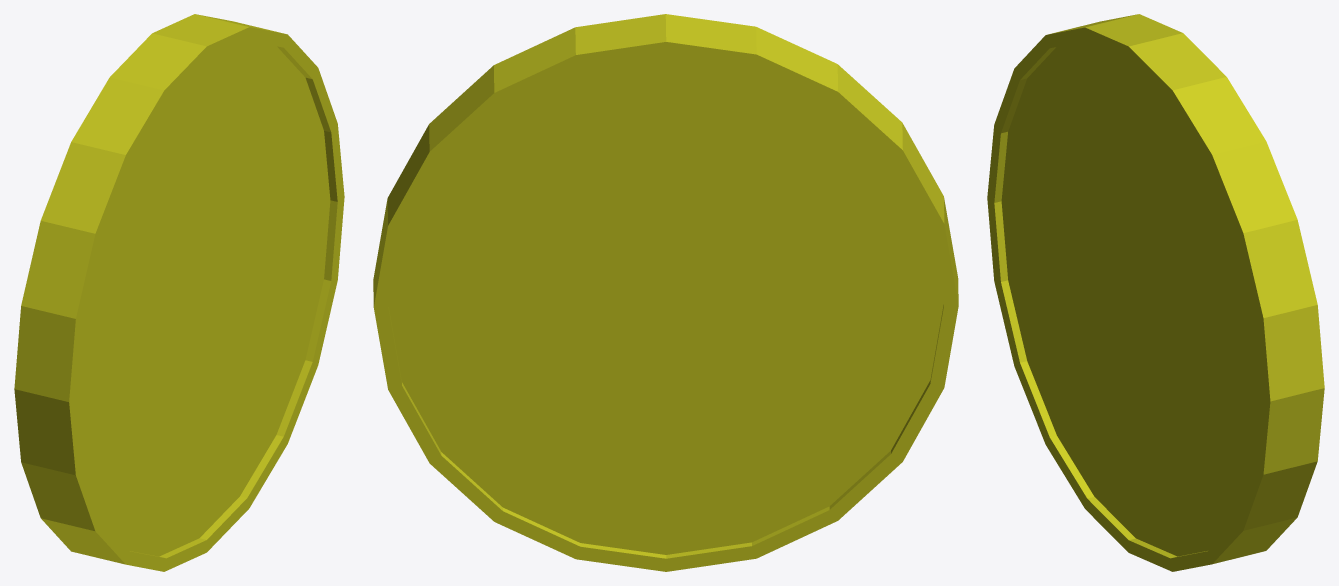
File: Low Poly Coin_000185.obj
3 renders of one model, left to right at view 1: azimuth 30°, elevation 25°; view 2: azimuth 150°, elevation 25°; view 3: azimuth 270°, elevation 25°, orthographic. The views are drawn at different scales.
Visible parts, largest first — view 1: Cylinder; view 2: Cylinder; view 3: Cylinder.
Boxes of the visible parts, x1,y1,x2,y2 form: Cylinder: (14,14,344,571); Cylinder: (373,14,958,571); Cylinder: (987,14,1324,571).
Size of the model in its own units: 1.84 by 2 by 1.21.
